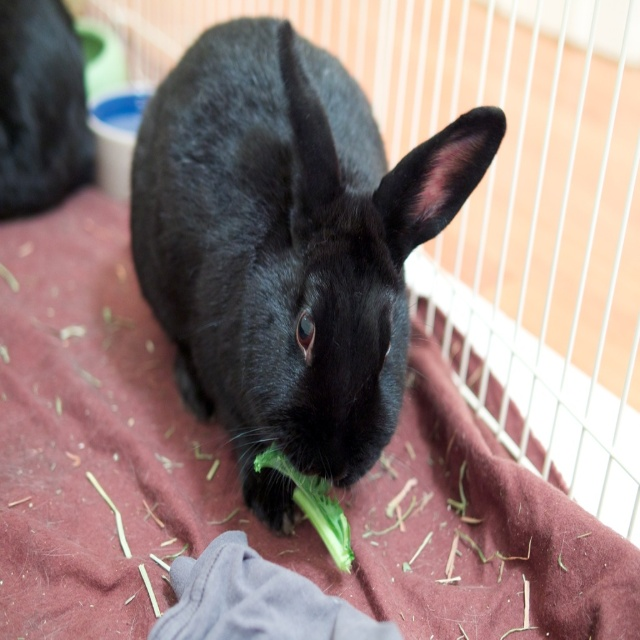Rabbit: (130, 16, 507, 537)
